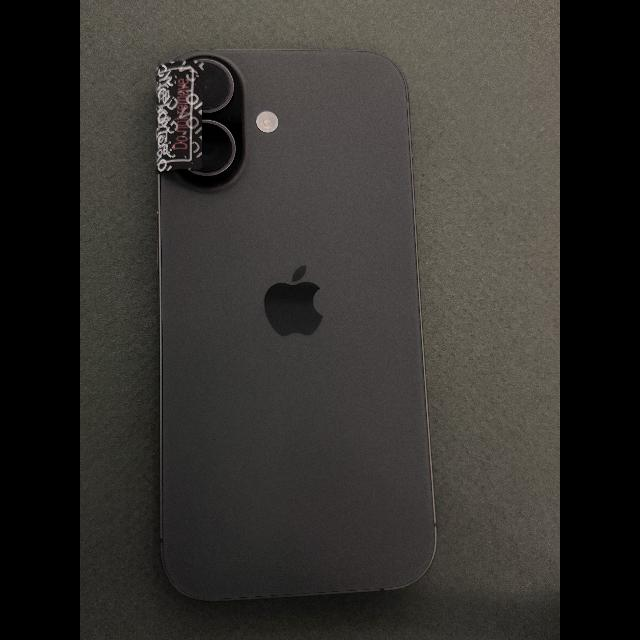lens: (191, 121, 236, 175), (201, 60, 234, 112)
phone: (158, 47, 439, 597)
sticker: (156, 60, 204, 172)
